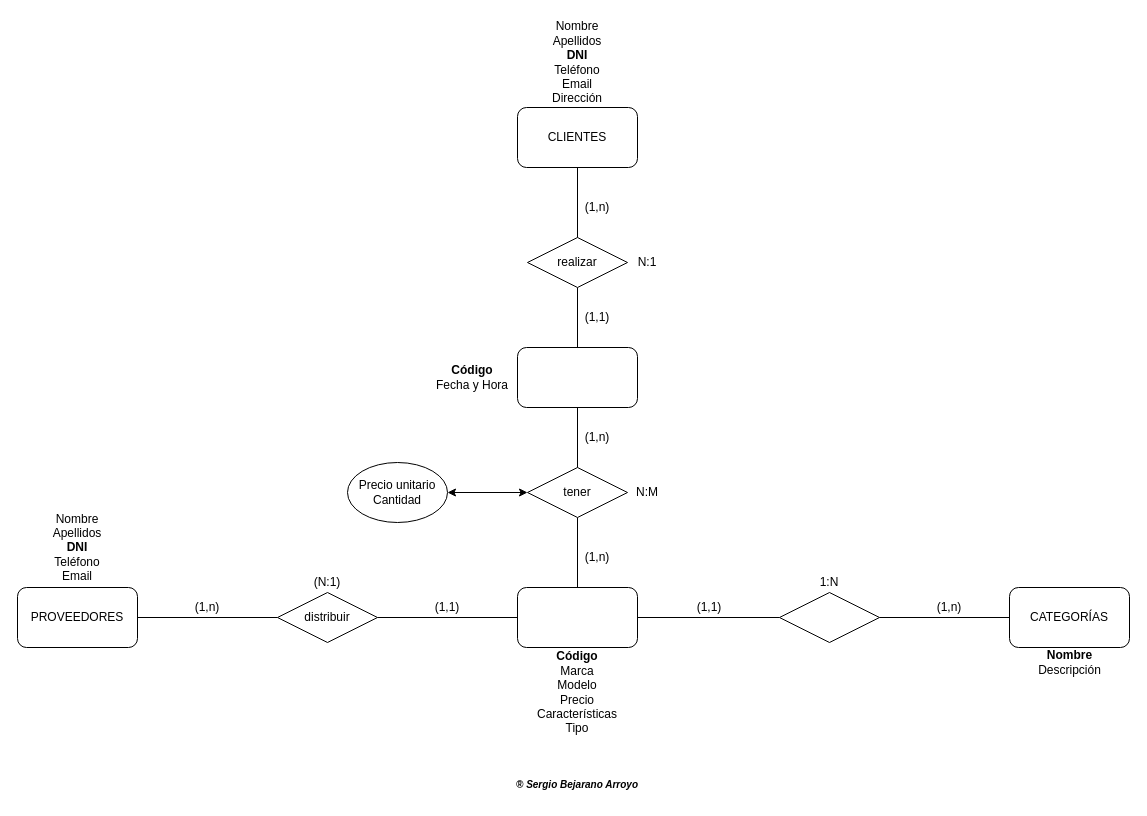
The diagram is 1147 pixels wide and 816 high, and some of its shapes have lost their labels. The shapes that lost their labels are listed below. From the top down, each one's centre as x and y in pixels, then its label:
the point at 577,377: PEDIDOS
the point at 577,617: PRODUCTOS
the point at 829,617: dividir
